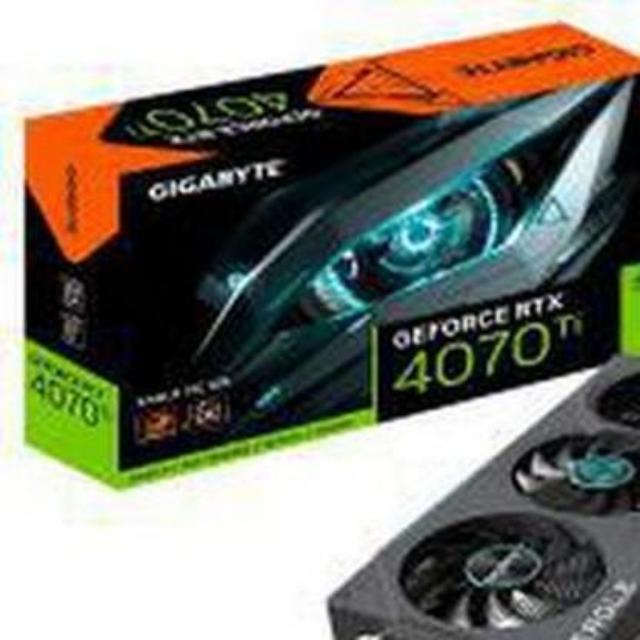GPU: (315, 352, 640, 638)
